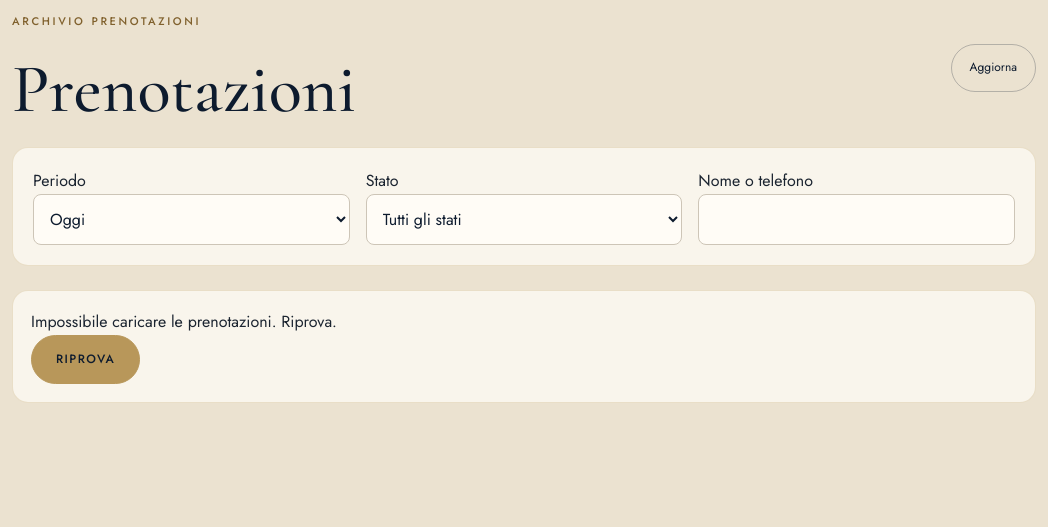
Scenario: non presenta risultati vuoti quando il backend fallisce e consente il recupero
Check: the message "Impossibile caricare le prenotazioni. Riprova." is shown, box [31,310,337,333]
Check: the text "0 prenotazioni trovate" is not shown
Click the button "Riprova" at (86, 359), box [31,335,140,384]
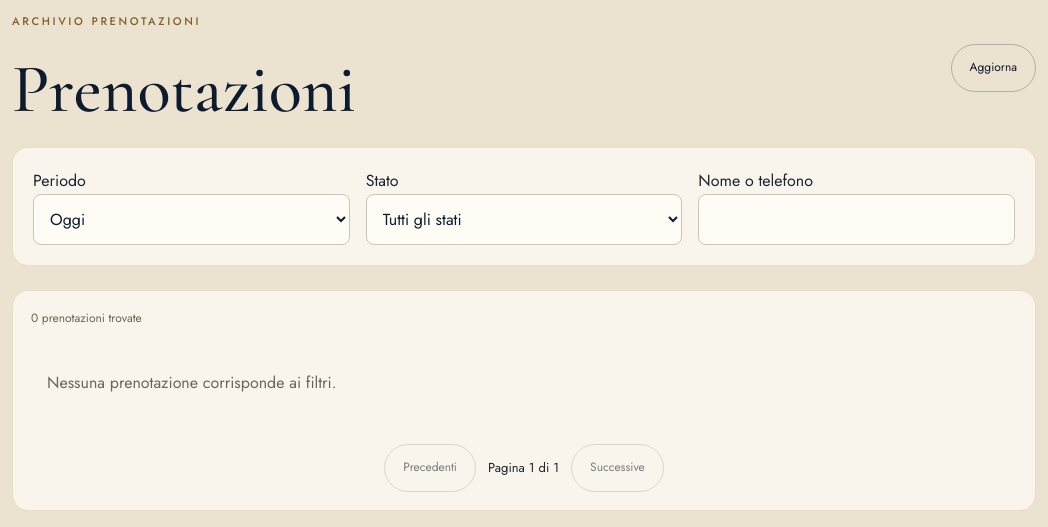
Check: the text "0 prenotazioni trovate" is shown, box [31,309,142,327]
